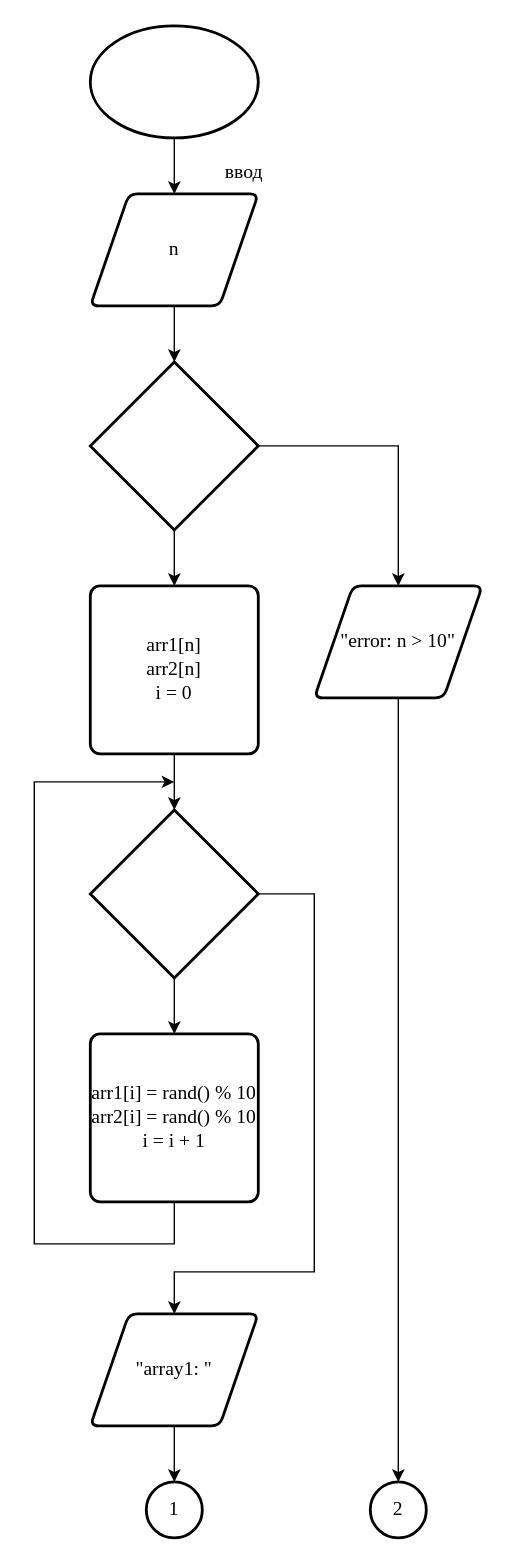
This 508x1562 diagram has some shape labels left out. Each missing label, with the centre of its shape:
i < n: the point at 173,893
n > 10: the point at 173,445
начало: the point at 173,81
